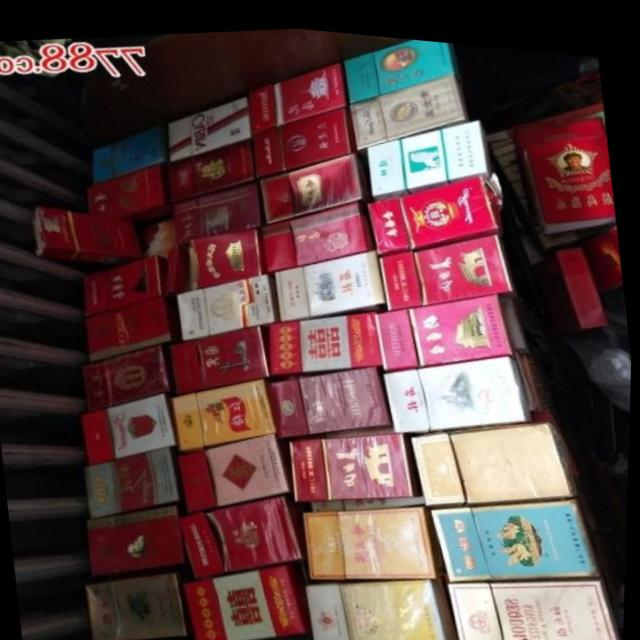box: (433, 487, 604, 573), (416, 412, 579, 500), (451, 569, 626, 640), (374, 283, 516, 365), (388, 347, 534, 426), (306, 497, 452, 573), (370, 166, 502, 250), (380, 224, 517, 304), (180, 490, 306, 576), (309, 570, 462, 640), (185, 559, 313, 640), (368, 111, 492, 192), (268, 358, 394, 433), (294, 425, 425, 497), (352, 65, 469, 144), (180, 428, 296, 505), (256, 195, 376, 268), (260, 145, 374, 219), (275, 242, 388, 315), (173, 373, 280, 447), (253, 100, 356, 176), (344, 31, 460, 98), (249, 52, 349, 129), (270, 303, 383, 368), (178, 268, 282, 336), (171, 320, 272, 389), (91, 570, 191, 639), (87, 444, 182, 516), (86, 391, 178, 463), (33, 206, 146, 263), (91, 510, 190, 575), (84, 341, 172, 411), (86, 291, 175, 358), (167, 88, 253, 157), (174, 176, 266, 240), (172, 129, 256, 199), (85, 157, 176, 221), (76, 252, 168, 314), (95, 119, 173, 183), (191, 224, 265, 287), (557, 233, 611, 314), (313, 487, 428, 505)
